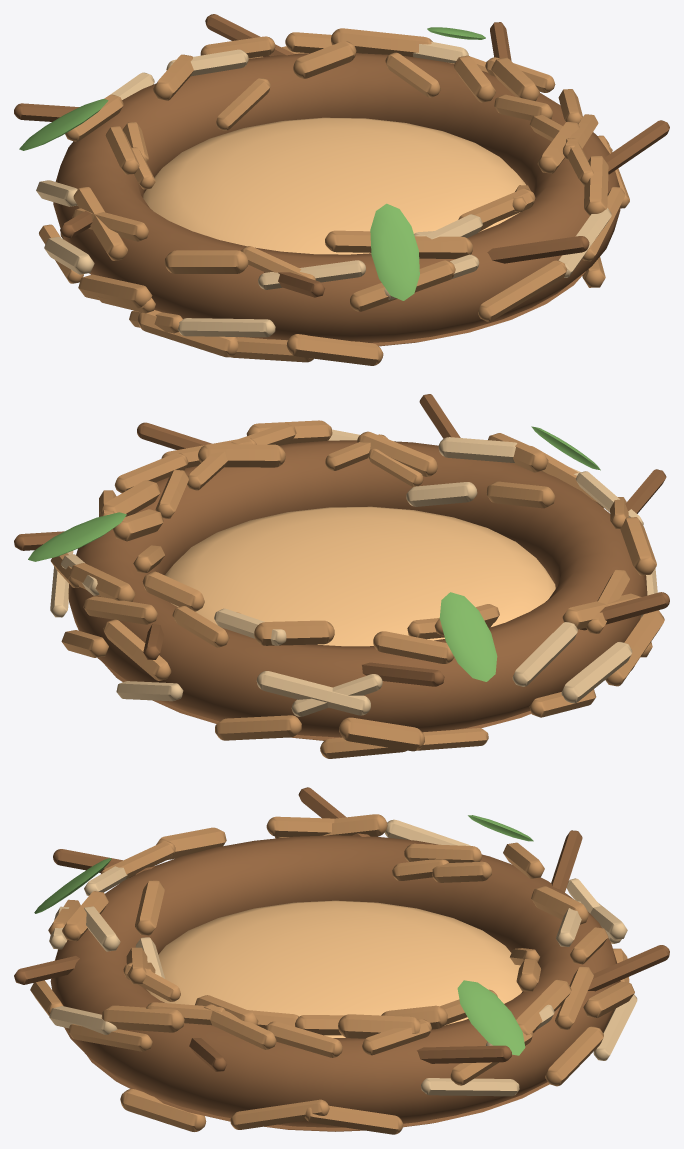
File: creature_nest.glb
3 renders of one model, top to bottom at view 1: azimuth 30°, elevation 25°; view 2: azimuth 150°, elevation 25°; view 3: azimuth 270°, elevation 25°, orthographic. The views are drawn at different scales.
Parts seen in each view (by area): view 1: Nest; view 2: Nest; view 3: Nest.
Part boxes in pixels (x1=…): Nest: x1=14, y1=14, x2=669, y2=365; Nest: x1=14, y1=394, x2=669, y2=758; Nest: x1=14, y1=787, x2=669, y2=1134.
Size of the model in its own units: 1.09 by 0.283 by 1.09.
